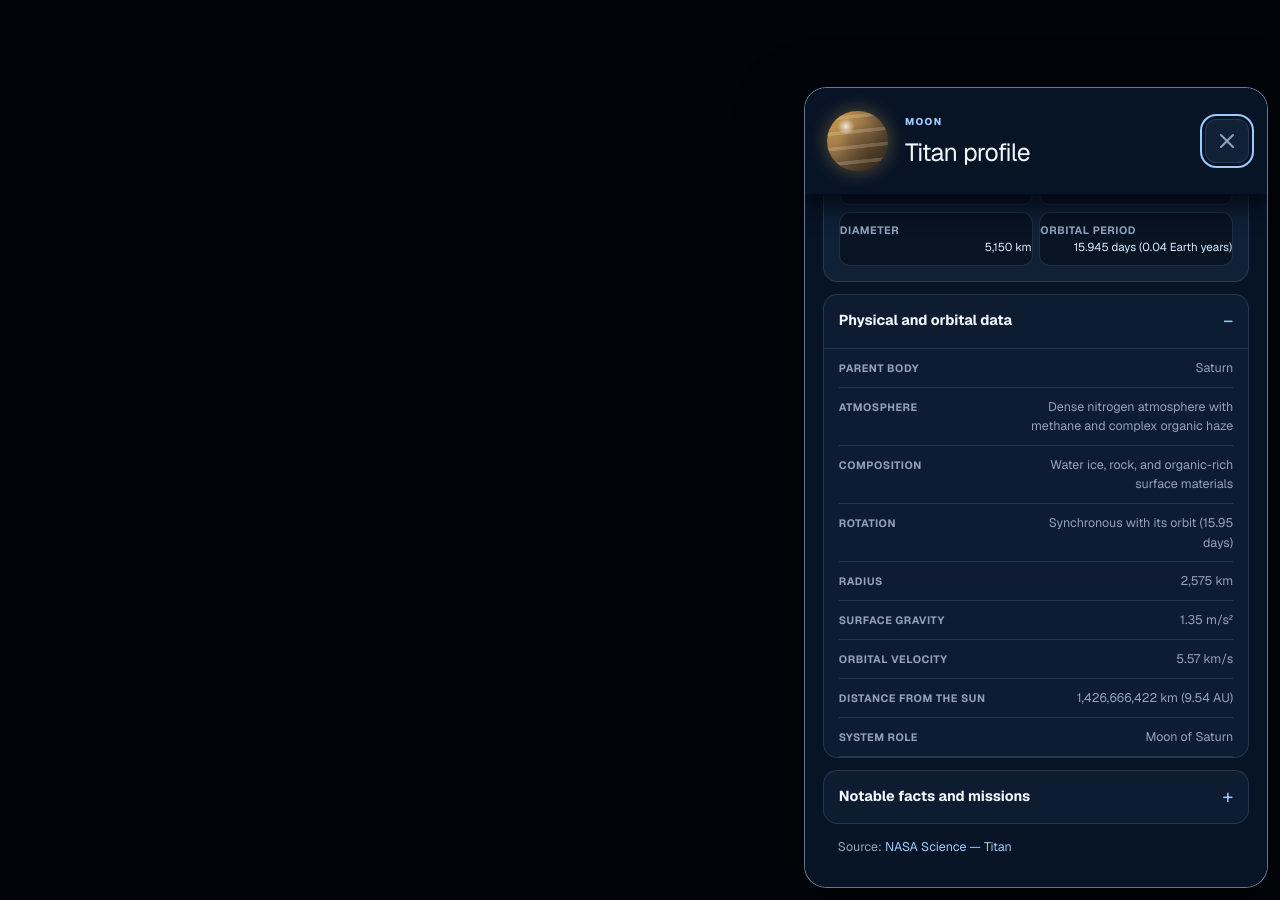
Test: FocusCard and ProfilePanel › leads with essential facts and keeps further reading in expandable sections
The image size is (1280, 900).
(page scrolled)
Check: the text "Dense nitrogen atmosphere with methane and complex organic haze" is shown, box x1=1025 y1=397 x2=1233 y2=436
Click the heading "Notable facts and missions" at (935, 796), box x1=839 y1=787 x2=1030 y2=805
(page scrolled)
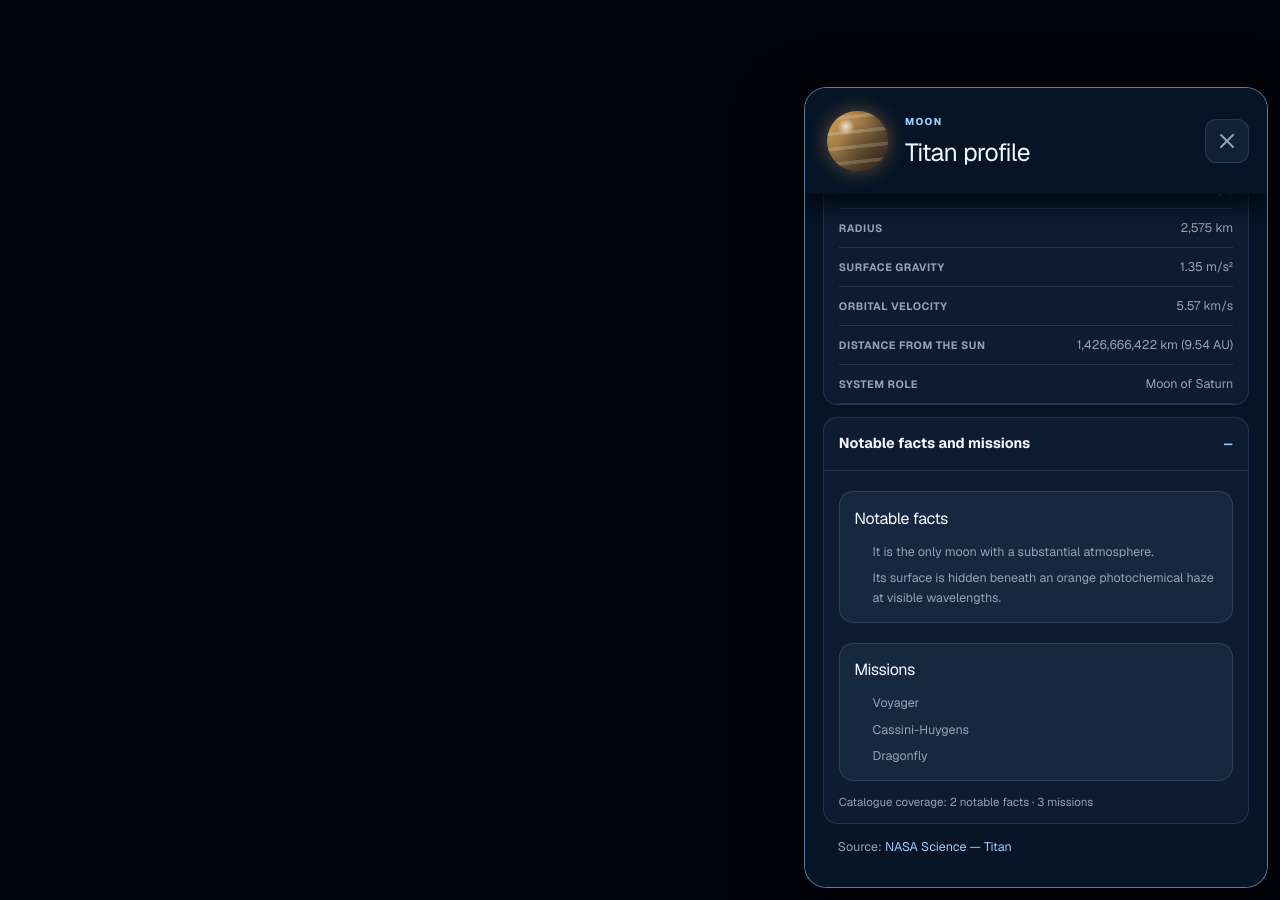
Check: the list item "Dragonfly" is shown, box x1=873 y1=747 x2=928 y2=764
